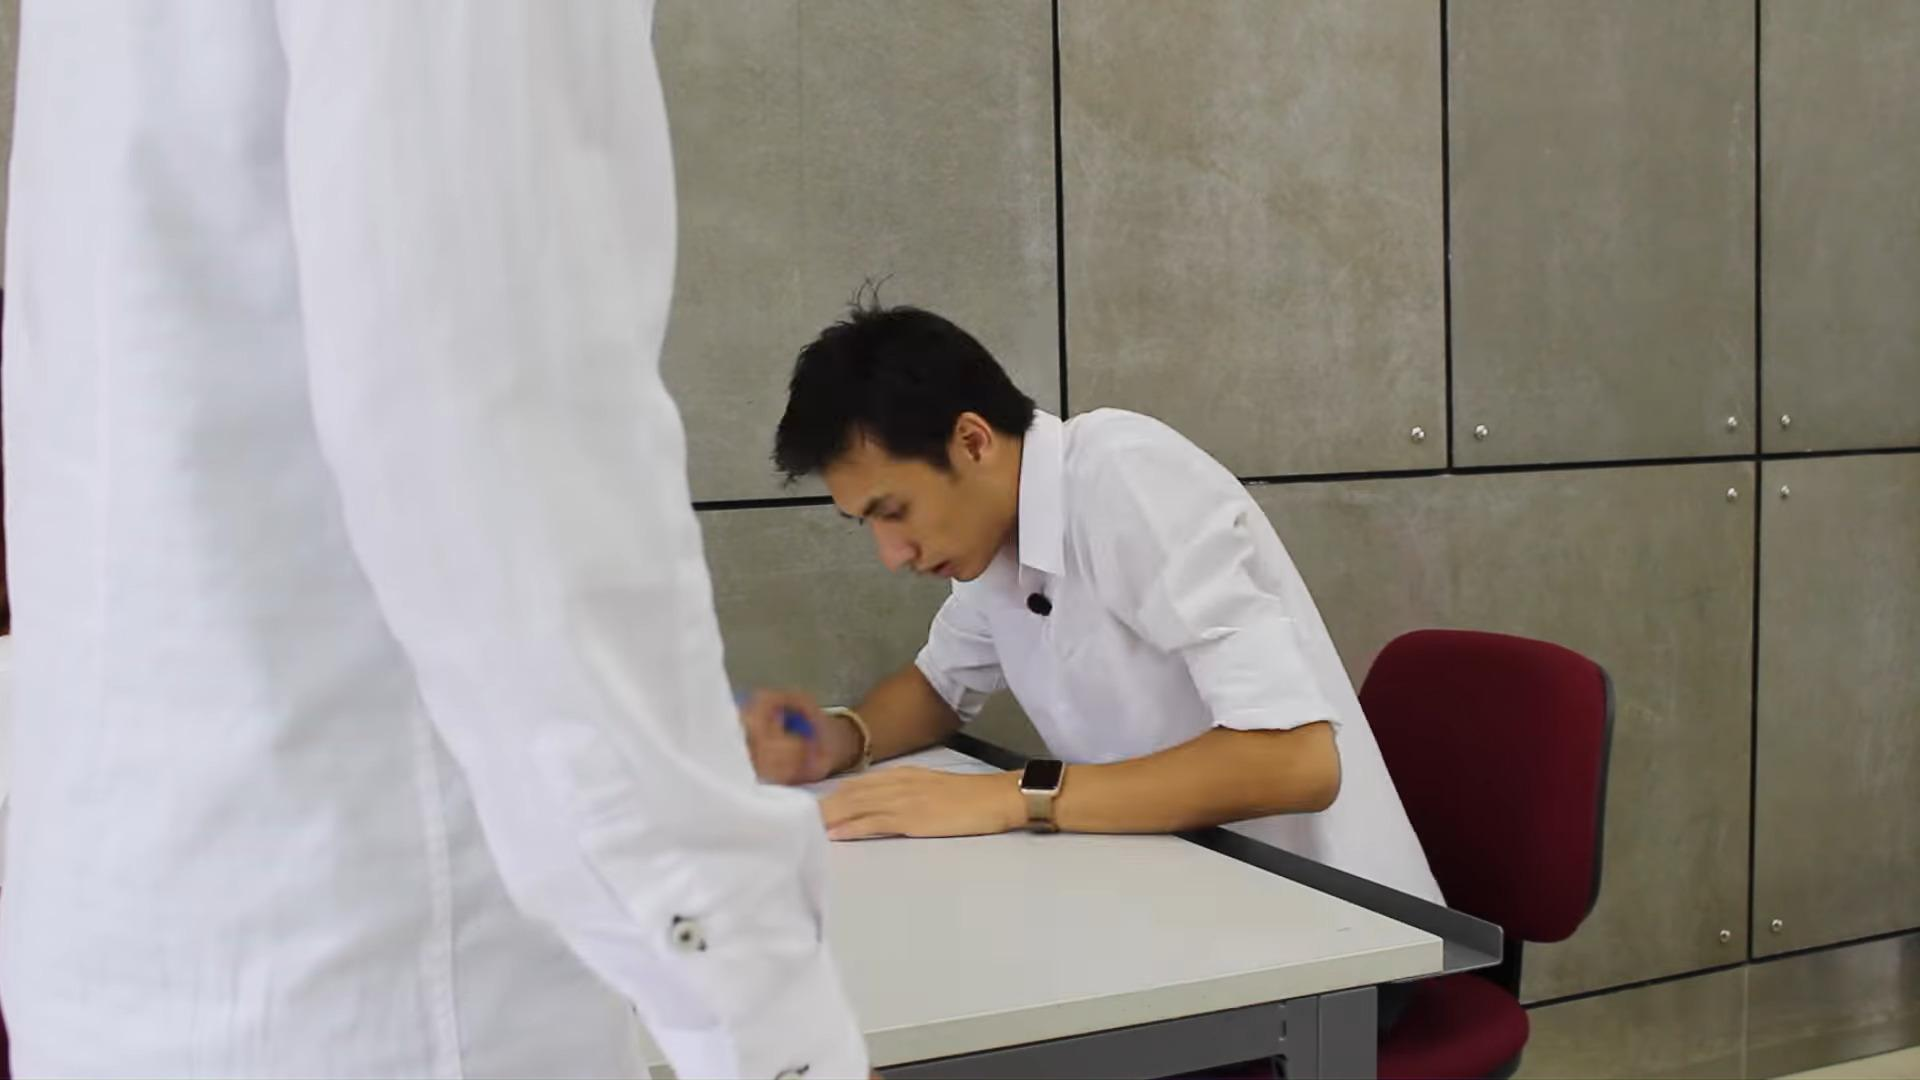good: (723, 256, 1501, 910)
